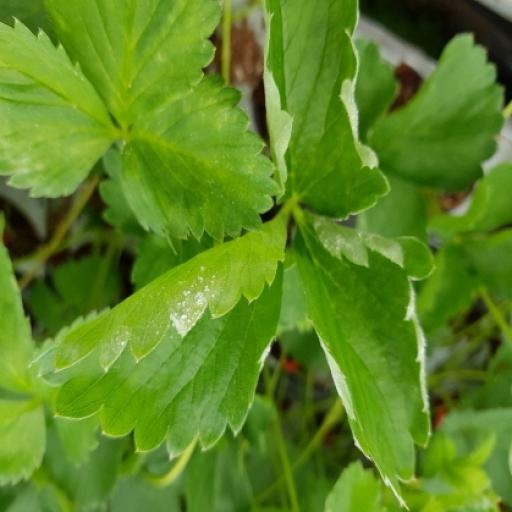Powdery Mildew Leaf: (222, 52, 487, 305), (73, 1, 220, 301), (120, 290, 249, 511)
